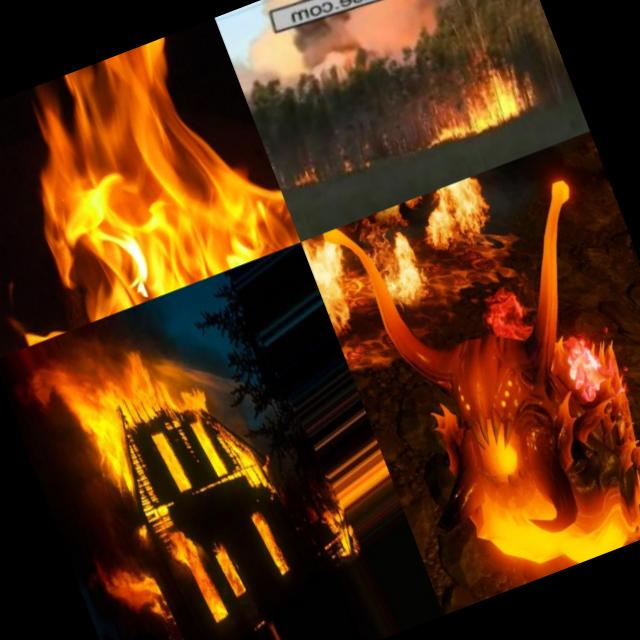fire: (0, 18, 300, 360), (58, 332, 224, 497), (414, 55, 550, 152), (301, 228, 379, 352), (412, 173, 506, 267), (165, 519, 237, 640), (94, 547, 175, 640), (366, 222, 438, 314), (218, 420, 280, 502), (242, 494, 294, 590), (208, 534, 252, 610), (288, 161, 329, 189), (343, 148, 377, 174)
smoke: (246, 0, 424, 99)
